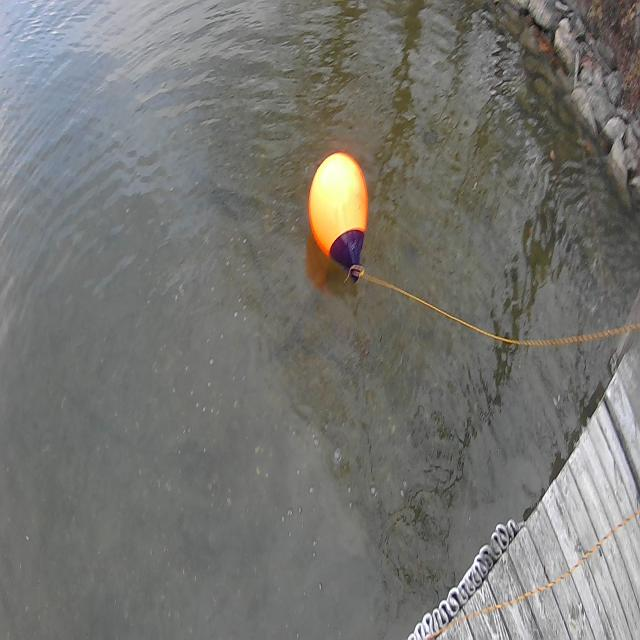Buoy: (304, 138, 374, 286)
